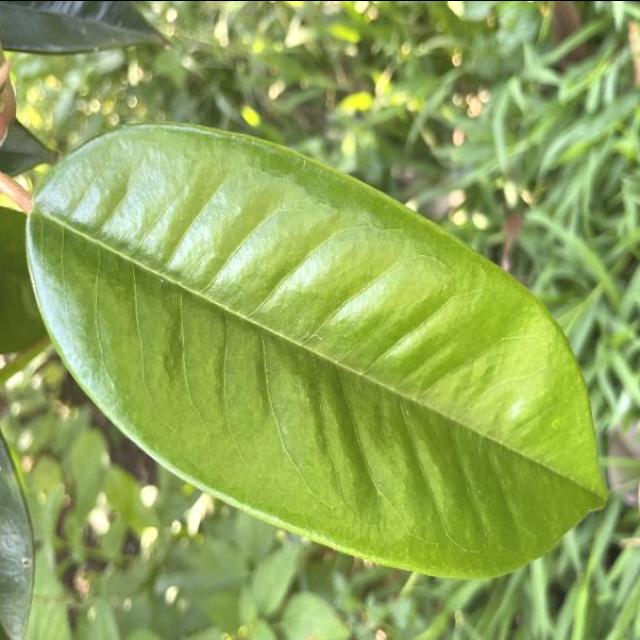No Disease: (0, 106, 630, 597)
